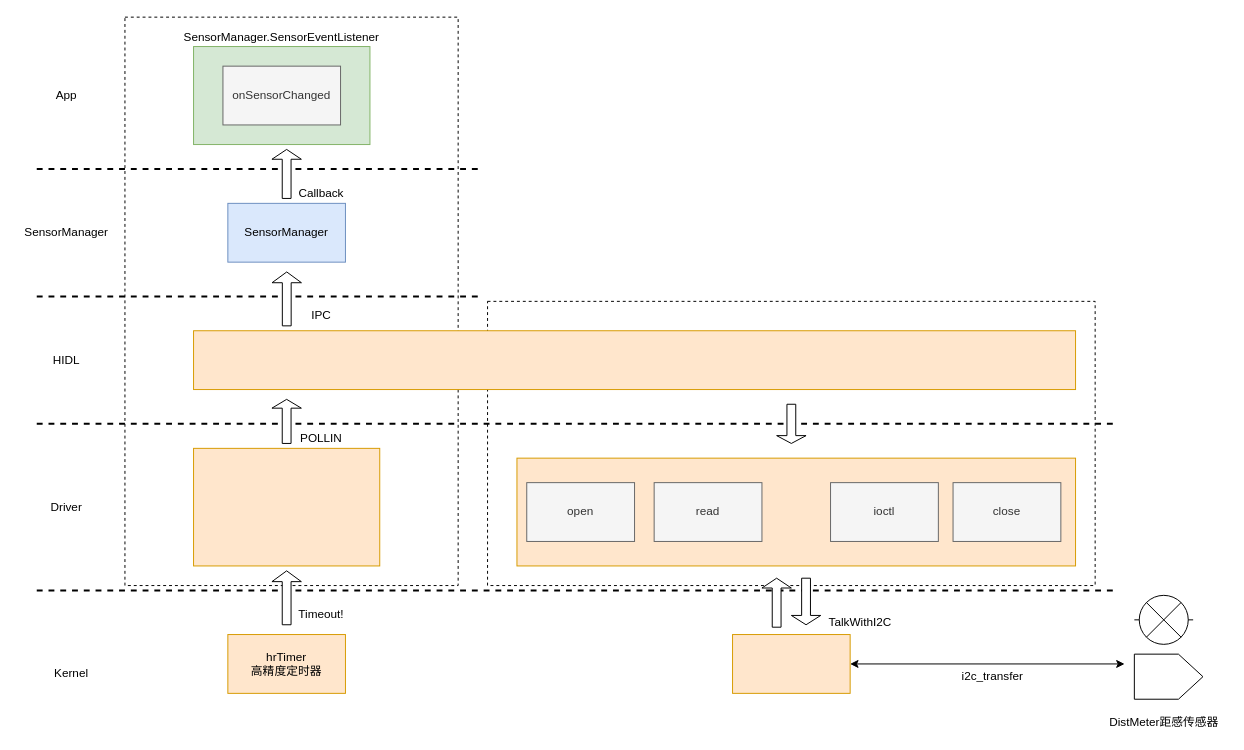
This 1244x750 diagram has some shape labels left out. Each missing label, with the box of its shape:
DEV节点 /dev/nd01: (516, 457, 1076, 566)
i2c_kobject: (732, 634, 850, 693)
SensorHIDL: (193, 330, 1076, 390)
SYS节点 /sys/class/sensor/m_dist_misc/: (193, 447, 380, 566)
